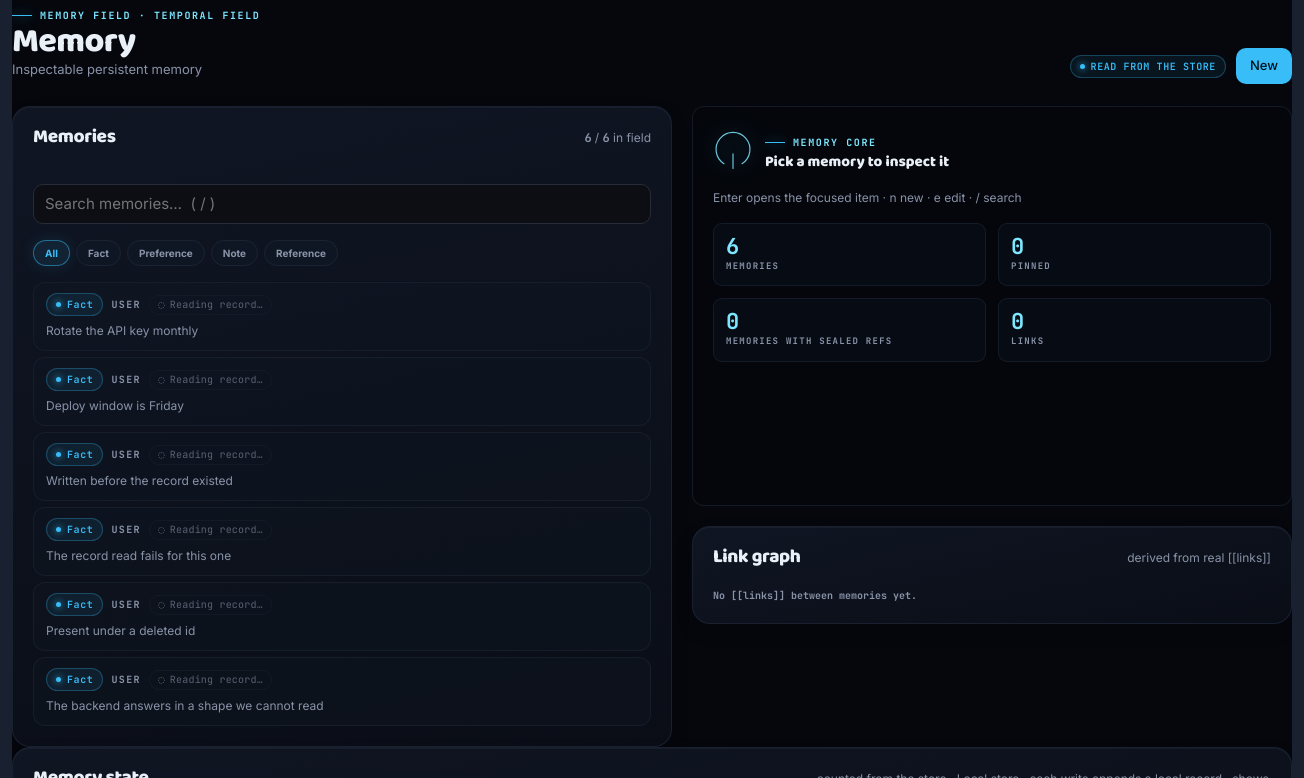
Test: Memory — "no record" is an honest absence, not a failure › explains that nothing was back-filled, because that would be an invention
What coordinates should you click on to do the following:
click the text "Written before the record existed"
I would click on:
 (139, 481)
Its box is [46,472,233,490].
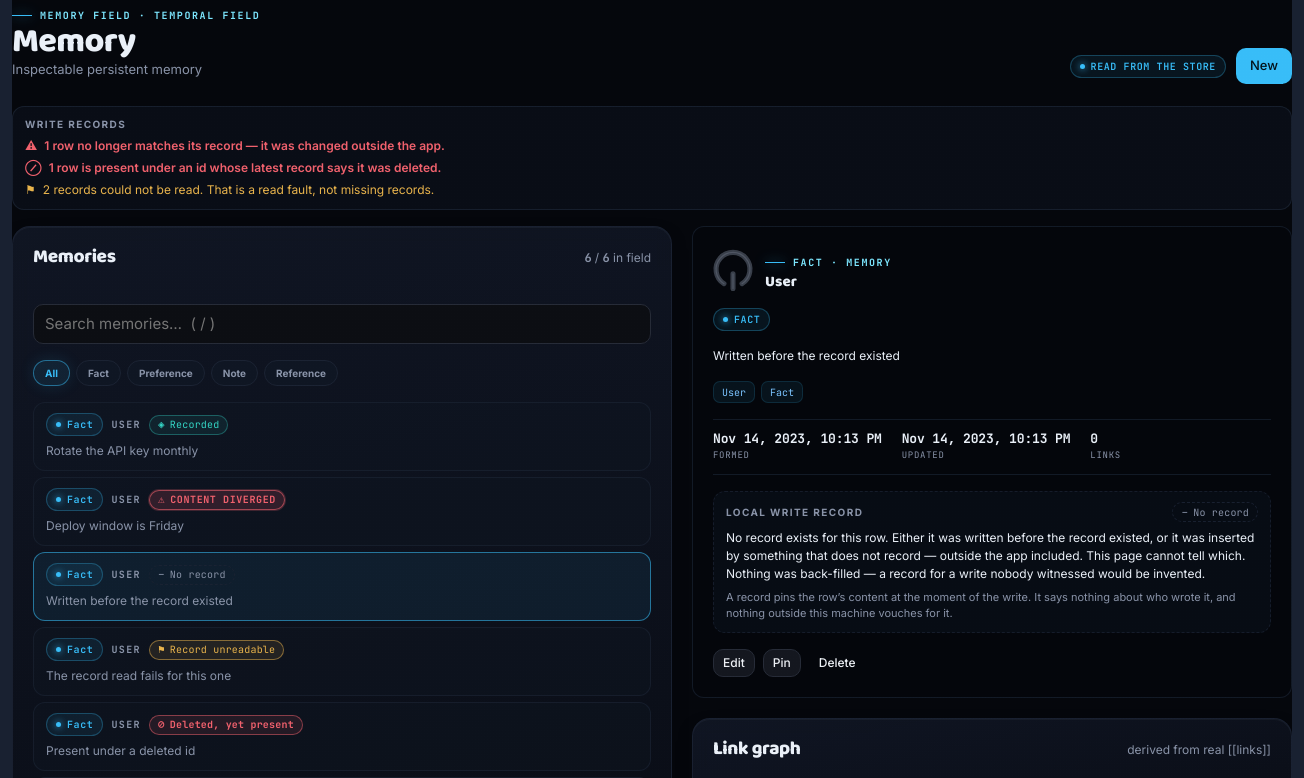
Expected: the button "Delete" is shown, [809,649,866,677]
Expected: the message with class "wrec-panel" is shown, [713,491,1271,633]
Expected: the message with class "wrec-panel" shows "written before the record existed", [726,530,1254,581]
